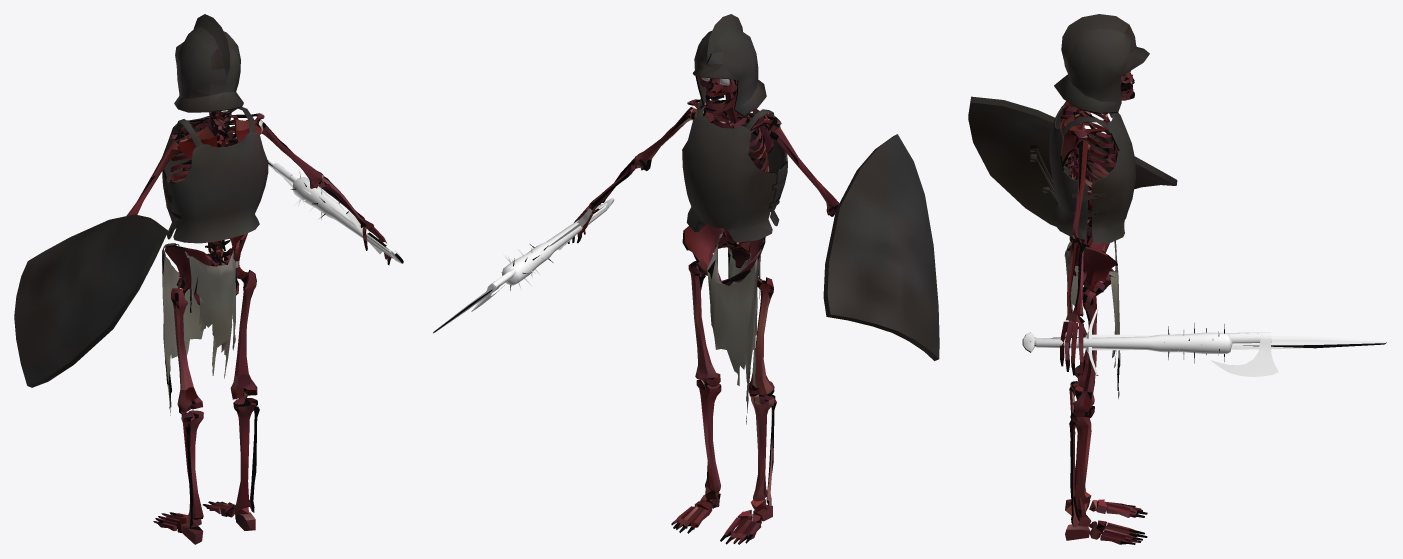
The picture shows the model from 3 angles, left to right: view 1: azimuth 30°, elevation 25°; view 2: azimuth 150°, elevation 25°; view 3: azimuth 270°, elevation 25°; orthographic projection. The views are drawn at different scales.
Visible parts, largest first — view 1: mesh_0; view 2: mesh_0; view 3: mesh_0.
Part boxes in pixels (bbox=[...]): mesh_0: bbox=[14, 14, 403, 544]; mesh_0: bbox=[433, 14, 939, 544]; mesh_0: bbox=[968, 14, 1388, 544].
Size of the model in its own units: 56.71 by 74.4 by 55.02.
Materials: 1 (1 with a texture image).
